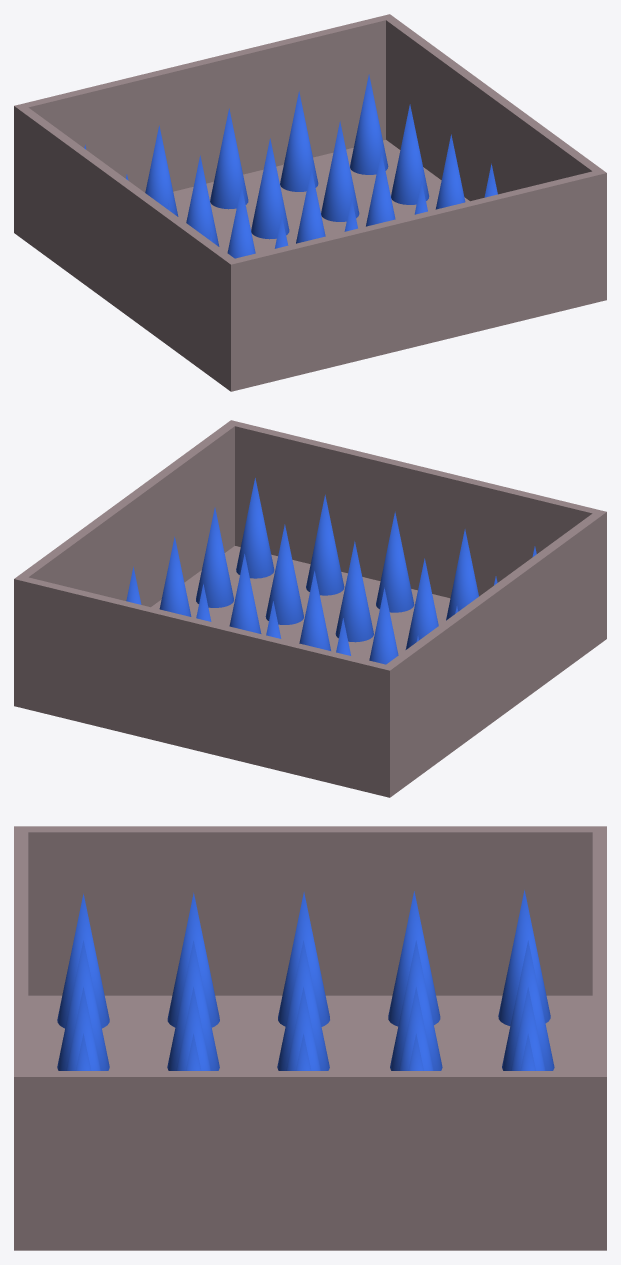
Rendered from TrapBox.fbx.
3 views of the same model, one above another, from view 1: azimuth 30°, elevation 25°; view 2: azimuth 150°, elevation 25°; view 3: azimuth 270°, elevation 25° (orthographic). The views are drawn at different scales.
Visible parts, largest first — view 1: Cone.005; view 2: Cone.005; view 3: Cone.005.
Part boxes in pixels (x1=…): Cone.005: x1=14, y1=14, x2=606, y2=391; Cone.005: x1=14, y1=420, x2=606, y2=797; Cone.005: x1=14, y1=826, x2=606, y2=1250.
Size of the model in its own units: 1000 by 323 by 1000.
